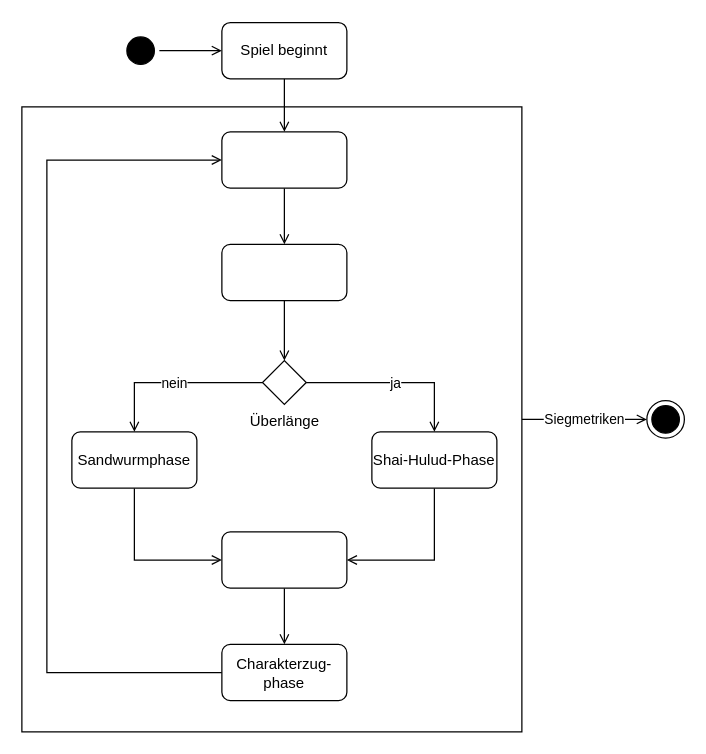
Some shapes in this 706 by 754 pixel diagram are drawn without their labels. The shapes that lost their labels are listed below. From the top down, each one's centre as x and y in pixels, then its label:
point (284, 159): Dünenwande-rungsphase
point (284, 272): Sandsturmphase
point (284, 559): Klonphase
